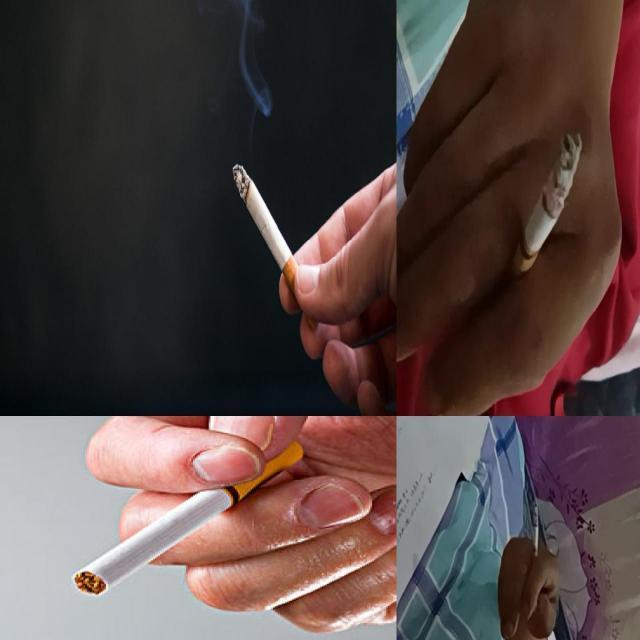cigarette: (68, 488, 224, 598), (232, 164, 318, 330), (504, 130, 584, 298), (532, 504, 538, 567)
